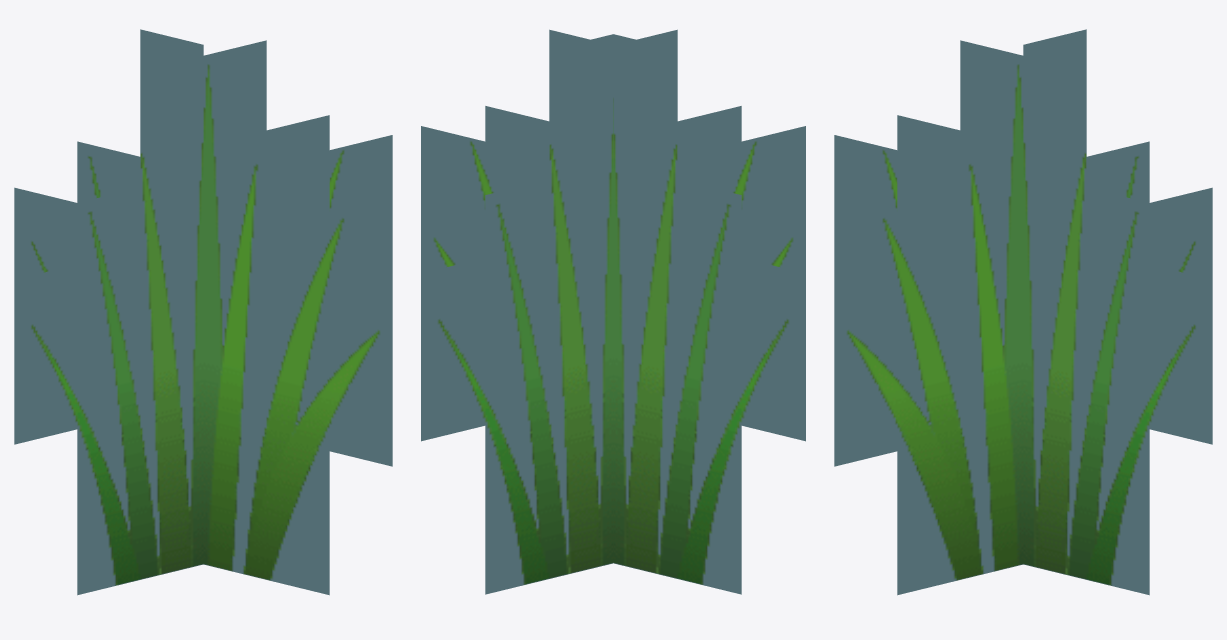
The model's file is grass.glb.
The picture shows the model from 3 angles, left to right: view 1: azimuth 30°, elevation 25°; view 2: azimuth 150°, elevation 25°; view 3: azimuth 270°, elevation 25°; orthographic projection.
Parts seen in each view (by area): view 1: tuft; view 2: tuft; view 3: tuft.
Boxes of the visible parts, x1,y1,x2,y2 form: tuft: (14, 29, 392, 595); tuft: (421, 29, 805, 594); tuft: (834, 29, 1212, 595).
Size of the model in its own units: 0.75 by 0.9854 by 0.6495.
Materials: 1 (1 with a texture image).
